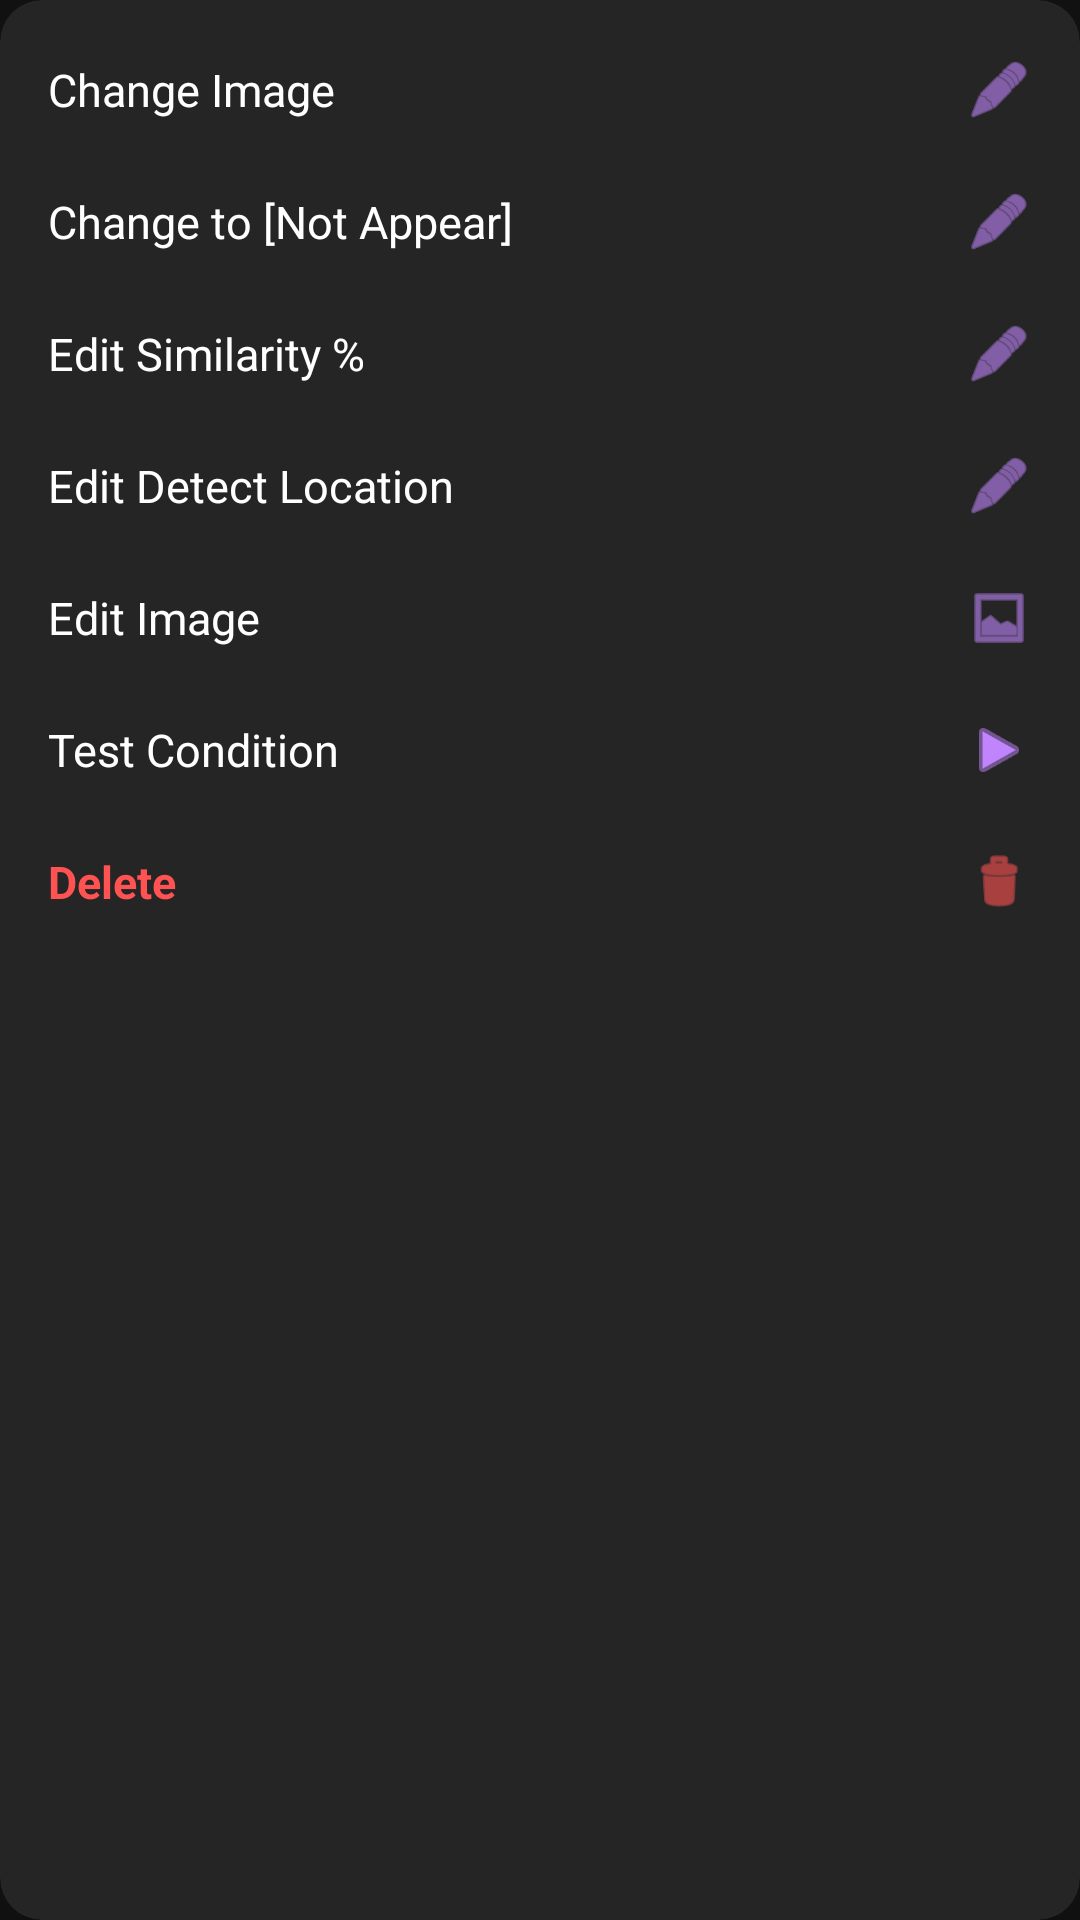

Screen size 1080px x 1920px. Icon name, then its center in pixels as (x,y):
gallery: (999,618)
play: (999,750)
